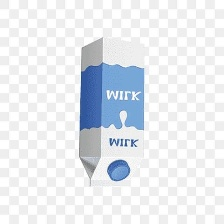carton: (76, 35, 147, 190)
